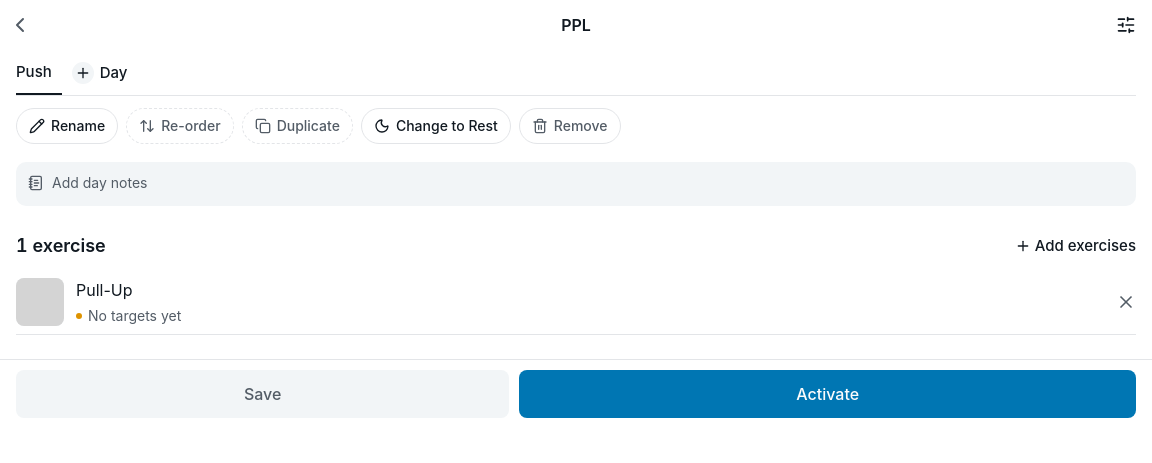
Test: ProgramEditorPage - shell › a failed save shows an inline error, keeps the draft dirty and stays put
Type "Heavy" into the text box labelled "day notes".
click(588, 183); type("Heavy")  # box [52,173,1124,193]
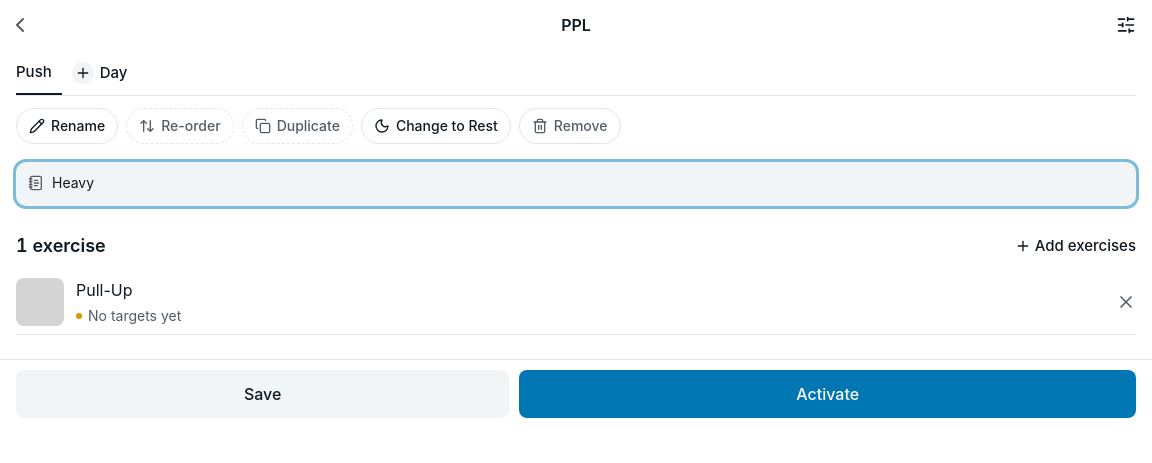
Click the button "Save".
click(263, 394)  # box [16,370,509,418]
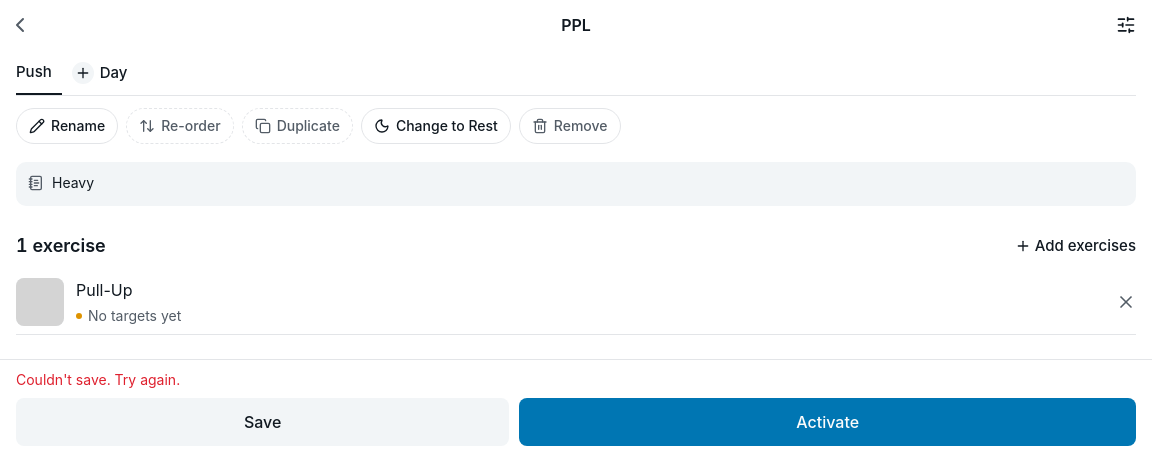
Check: the button "Save" is enabled, box [16,398,509,446]
Check: the message reads "Couldn't save. Try again.", box [16,371,180,388]
